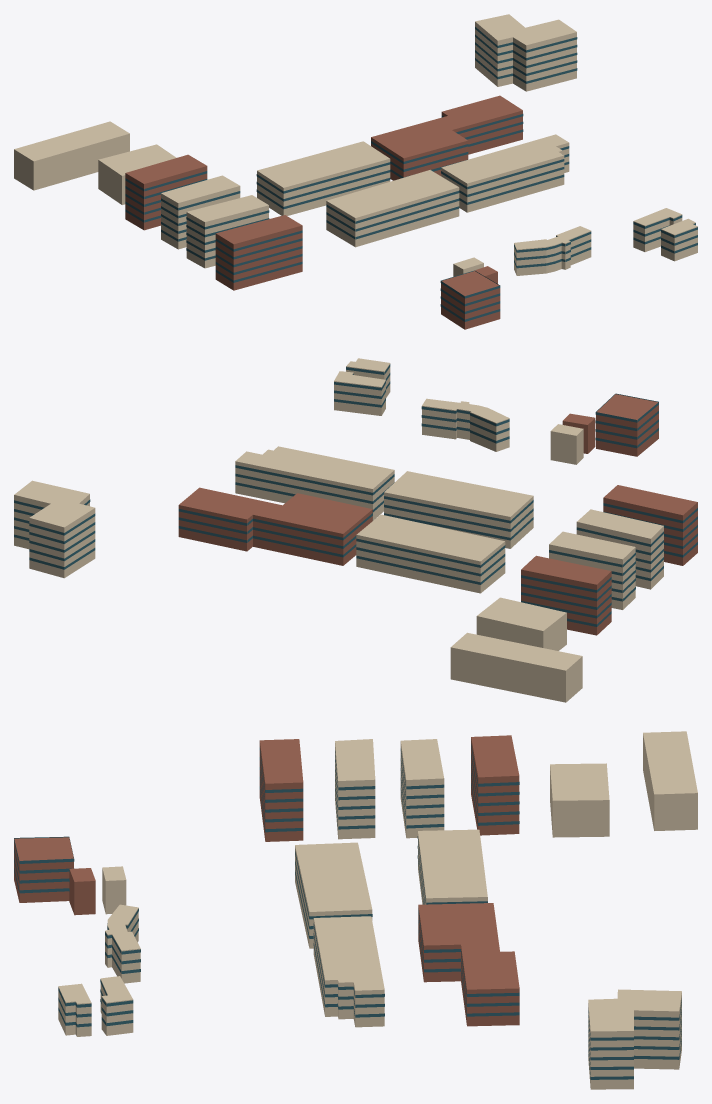
File: city_-1_-7.glb
3 renders of one model, top to bottom at view 1: azimuth 30°, elevation 25°; view 2: azimuth 150°, elevation 25°; view 3: azimuth 270°, elevation 25°, orthographic. The views are drawn at different scales.
Visible parts, largest first — view 1: city_-1_-7; view 2: city_-1_-7; view 3: city_-1_-7.
Part boxes in pixels (bbox=[...]): city_-1_-7: bbox=[14, 14, 697, 329]; city_-1_-7: bbox=[14, 358, 697, 702]; city_-1_-7: bbox=[14, 731, 697, 1089].
Bounding box in the file's own units: 282 × 23.8 × 253.
